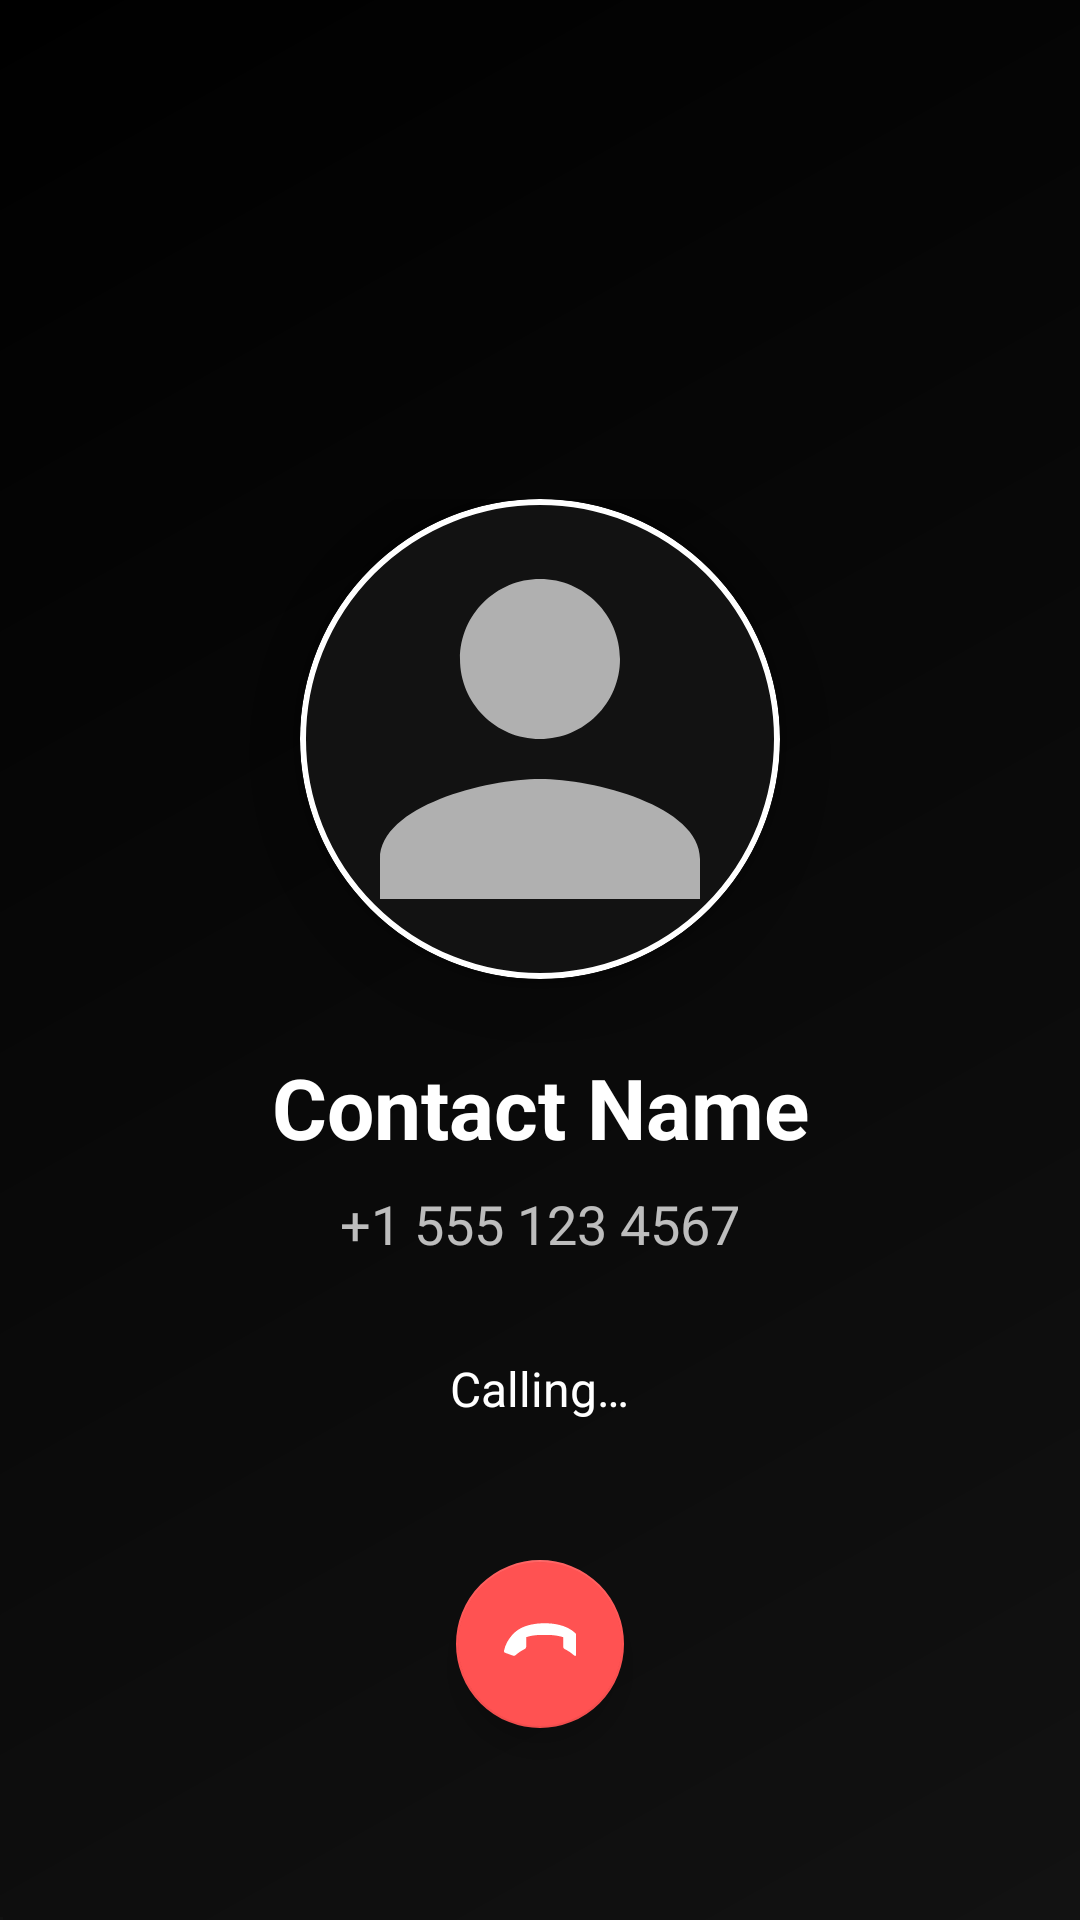

Named icons in this screenshot (1080 x 1920) and their centers, (x=x, y=y):
call end: (x=540, y=1644)
